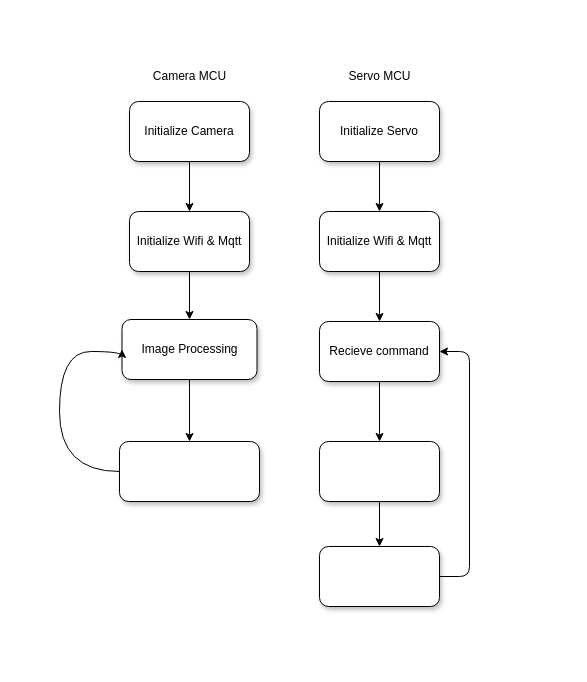
The diagram is 587 pixels wide and 682 high, and some of its shapes have lost their labels. Each missing label, with the centre of its shape:
Move Servo: the point at 380,472
Return Home: the point at 380,578
Send command Mqtt: the point at 190,472
